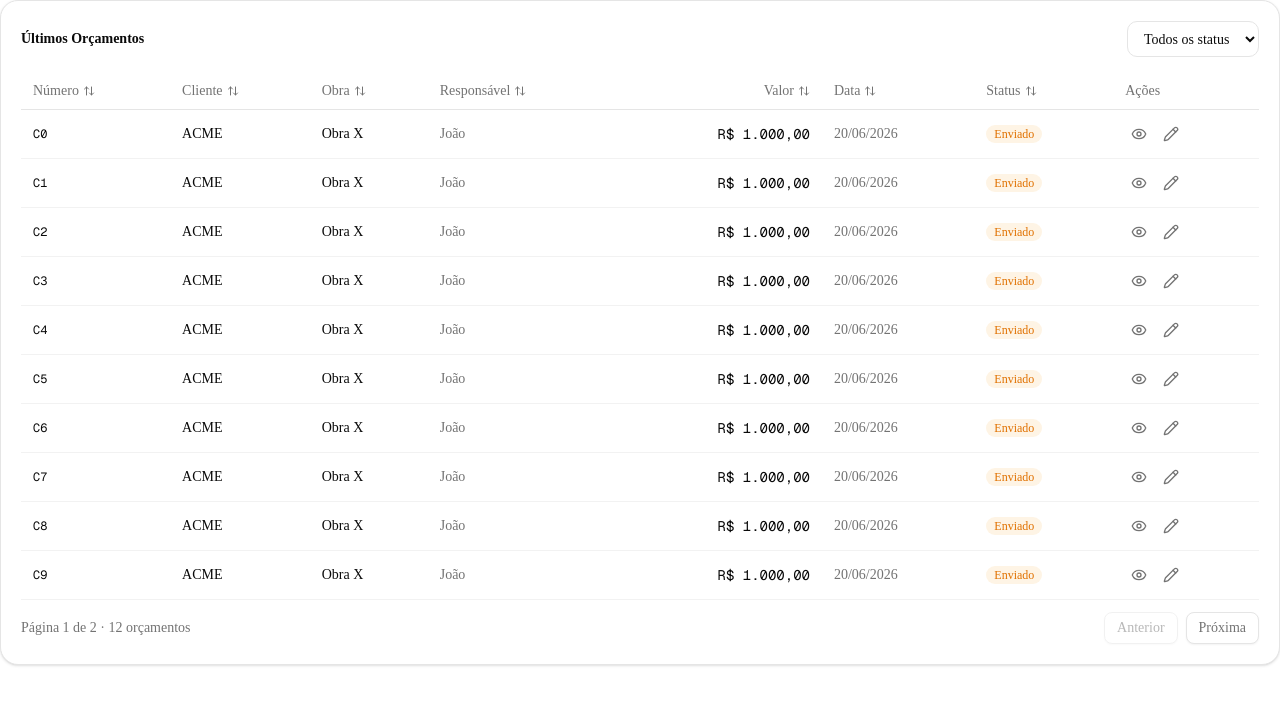
TabelaUltimosOrcamentos › pagina em 10 linhas
The image size is (1280, 720).
Click the button "Próxima": (1222, 628) [1186,612,1259,644]
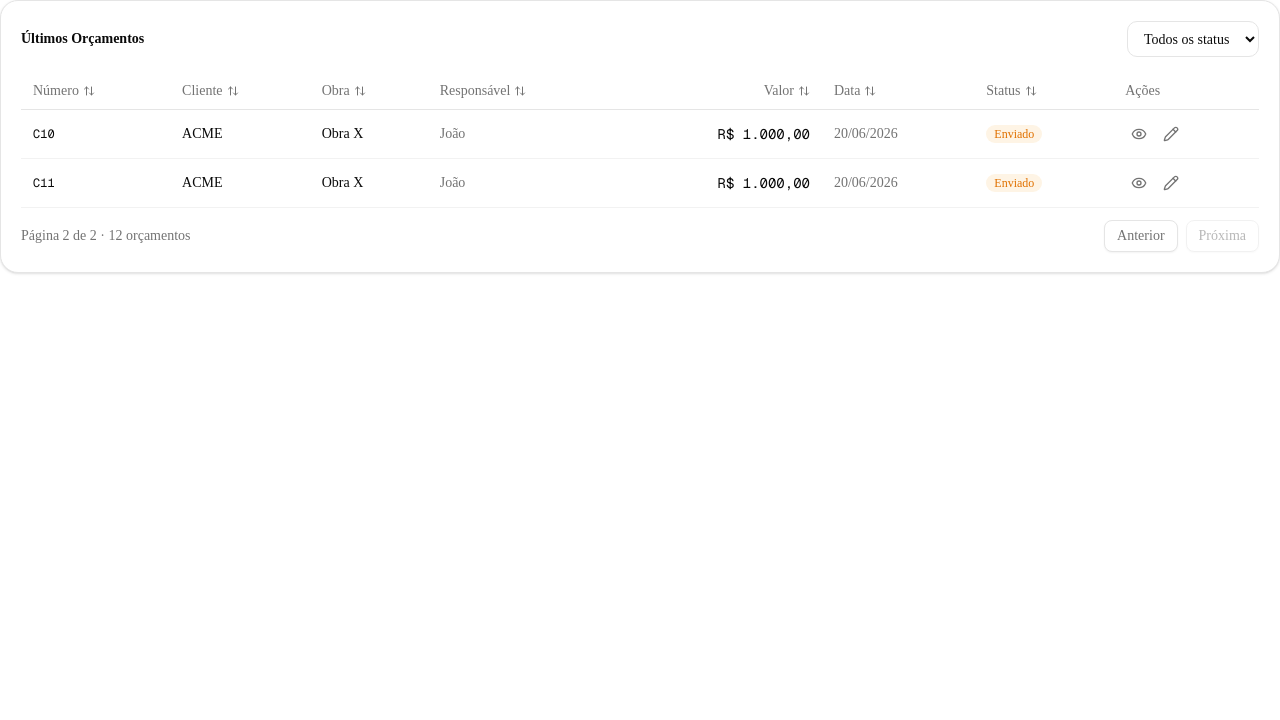
Result: the number of rows is 3 at [21,73,1259,110]; [21,110,1259,158]; [21,158,1259,208]
